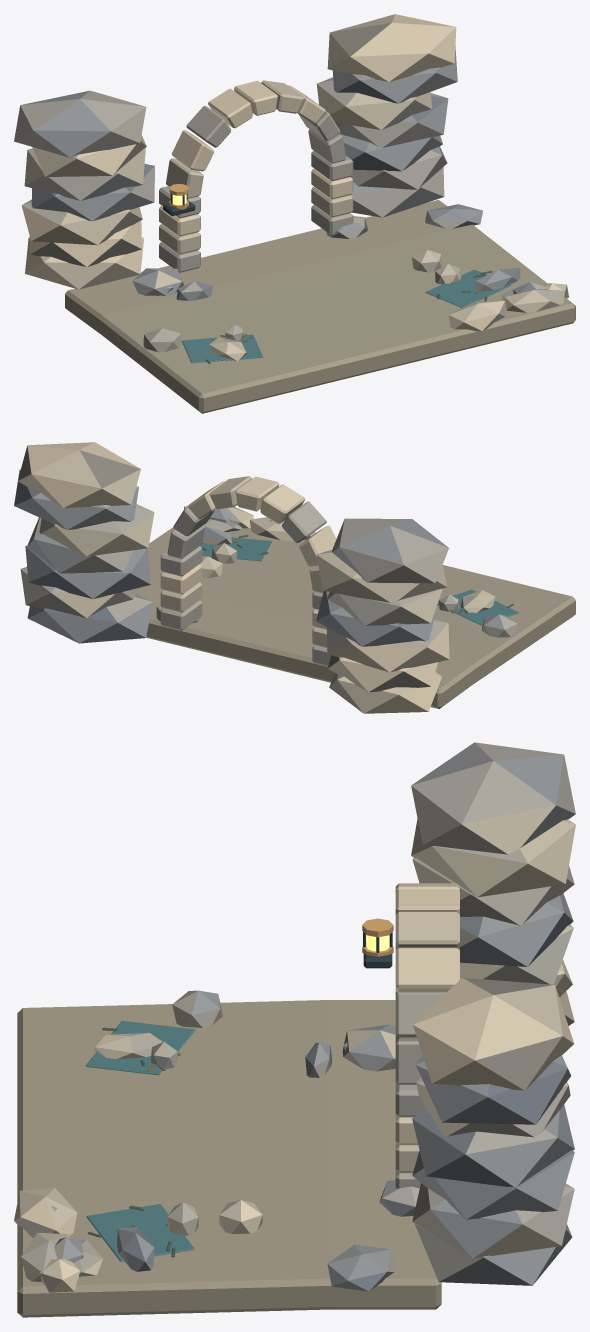
File: entree_grottes.glb
3 views of the same model, one above another, from view 1: azimuth 30°, elevation 25°; view 2: azimuth 150°, elevation 25°; view 3: azimuth 270°, elevation 25° (orthographic). The views are drawn at different scales.
Parts seen in each view (by area): view 1: entree_grottes; view 2: entree_grottes; view 3: entree_grottes.
Part boxes in pixels (x1,y1,x2,y2): entree_grottes: (14,14,575,413); entree_grottes: (14,442,575,713); entree_grottes: (14,742,575,1317).
Bounding box in the file's own units: 11.16 × 4.86 × 8.22.
